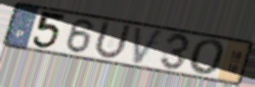3: (159, 32, 191, 72)
5: (31, 10, 70, 51)
6: (63, 18, 97, 55)
O: (187, 38, 227, 78)
U: (92, 19, 134, 61)
V: (133, 25, 165, 67)
